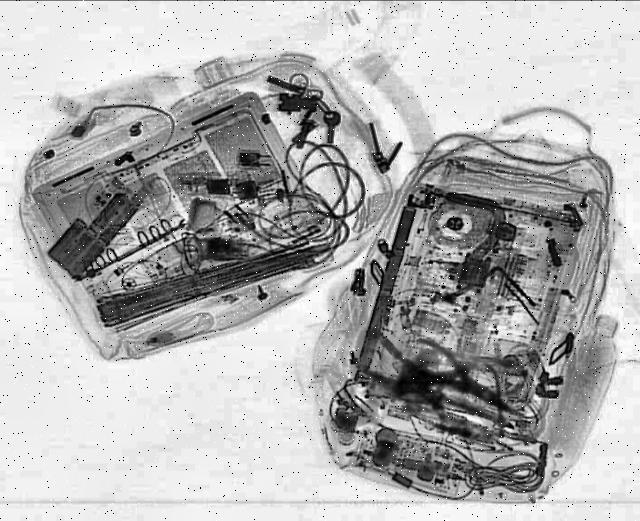Pliers: (394, 334, 538, 430)
